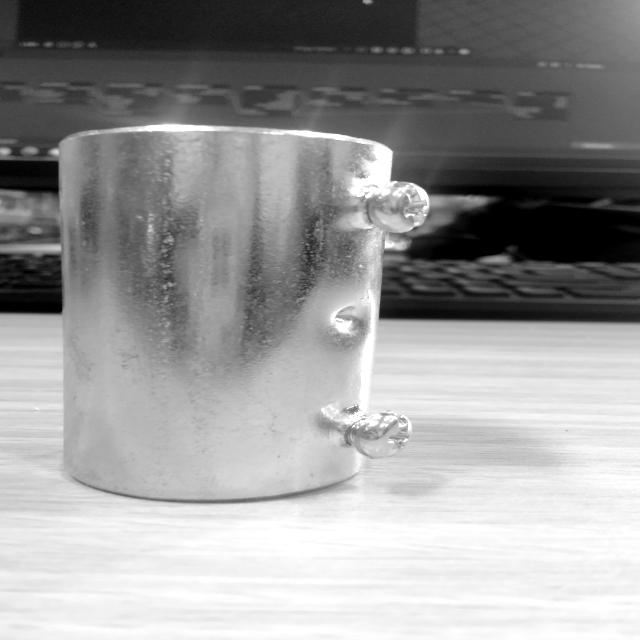Co_Nho: (55, 124, 428, 504)
